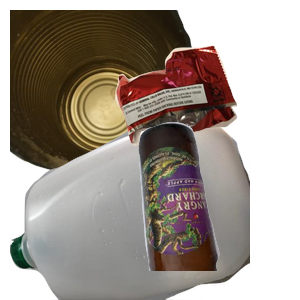glass: (136, 120, 300, 300)
metal: (10, 10, 200, 180)
plastic: (10, 120, 250, 300)
trash: (113, 43, 300, 181)
